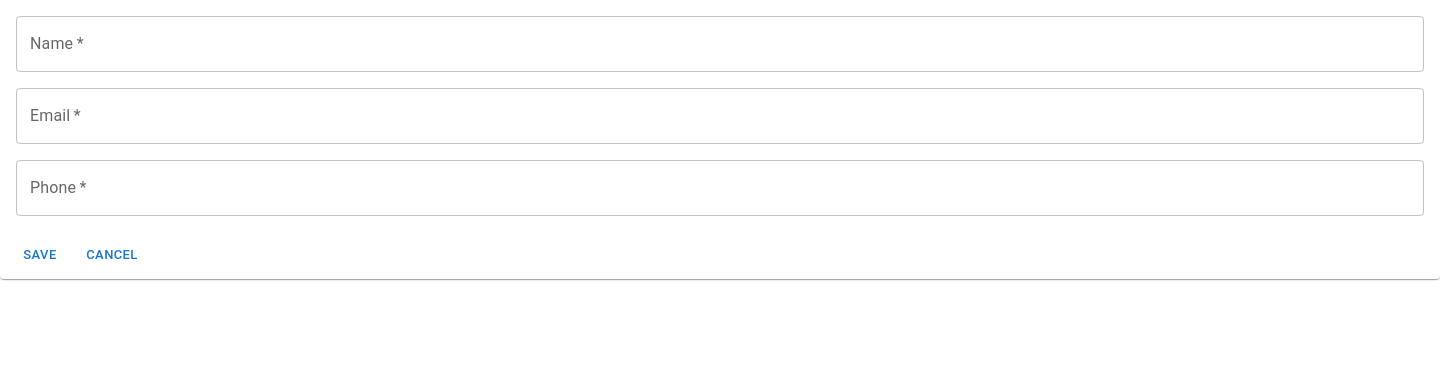
Test: ProfileEditor Component › displays validation errors for empty fields
Click the button "Save": coordinates (40, 255) x1=8 y1=240 x2=72 y2=271
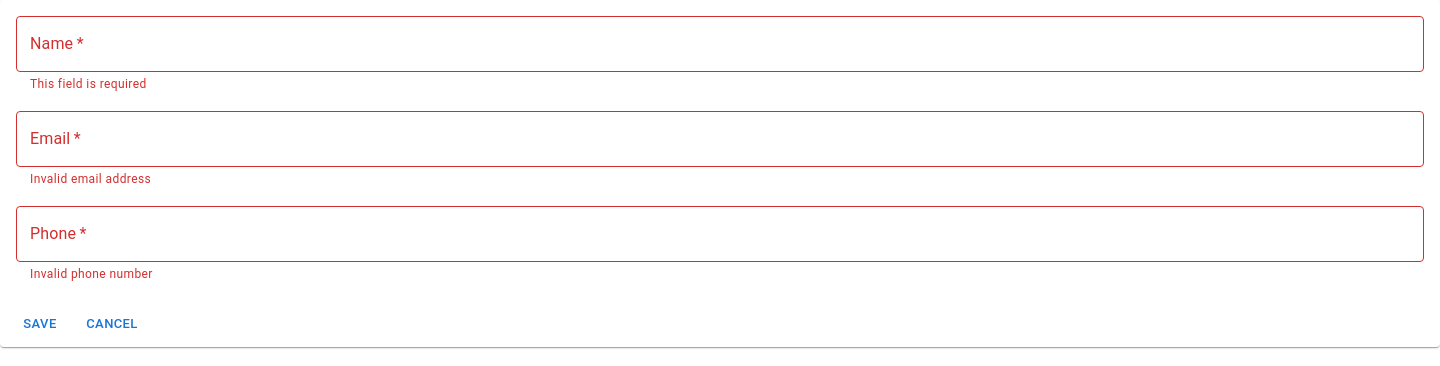
Now the text "This field is required" is shown, box x1=30 y1=77 x2=147 y2=91
